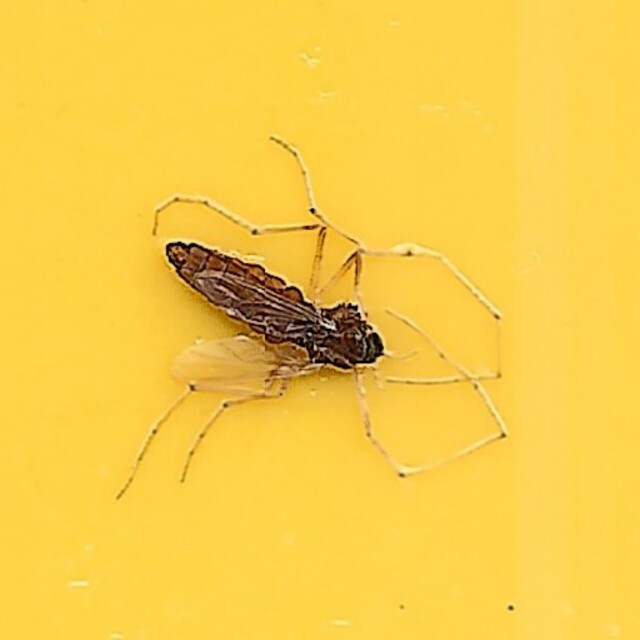Nematocera: (125, 134, 515, 506)
